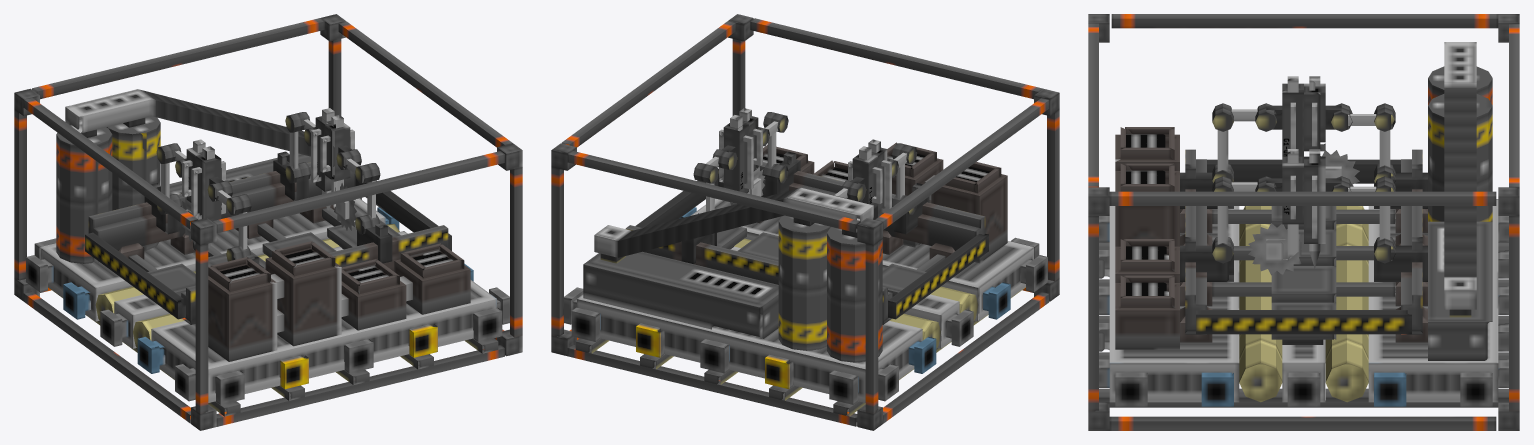
The model's file is assembly_factory.obj.
3 renders of one model, left to right at view 1: azimuth 30°, elevation 25°; view 2: azimuth 150°, elevation 25°; view 3: azimuth 270°, elevation 25°, orthographic. The views are drawn at different scales.
Parts seen in each view (by area): view 1: Blade4; view 2: Blade4; view 3: Blade4.
Boxes of the visible parts, x1,y1,x2,y2 form: Blade4: (14, 14, 522, 430); Blade4: (551, 14, 1059, 430); Blade4: (1088, 14, 1519, 430).
Size of the model in its own units: 5 by 3 by 5.
